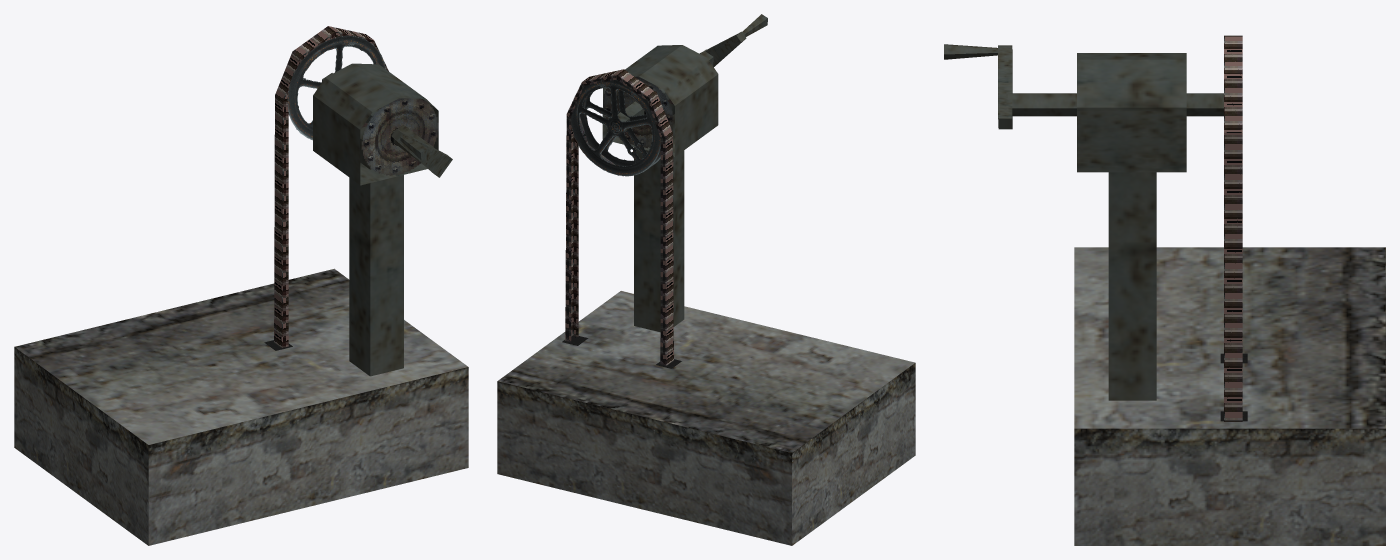
Rendered from Barrier_p1.fbx.
3 views of the same model, side by side, from view 1: azimuth 30°, elevation 25°; view 2: azimuth 150°, elevation 25°; view 3: azimuth 270°, elevation 25° (orthographic). The views are drawn at different scales.
Visible parts, largest first — view 1: Box02, rr, klika02; view 2: Box02, rr, klika02; view 3: Box02, rr, klika02.
Boxes of the visible parts, box(x1,y1,x2,y2) form: Box02: box(14, 268, 468, 545); rr: box(274, 26, 438, 376); klika02: box(287, 35, 452, 177); Box02: box(497, 291, 915, 545); rr: box(565, 45, 718, 365); klika02: box(571, 14, 767, 176); Box02: box(1074, 247, 1385, 545); rr: box(1077, 35, 1242, 421); klika02: box(944, 44, 1223, 129).
Size of the model in its own units: 123 by 149 by 127.
